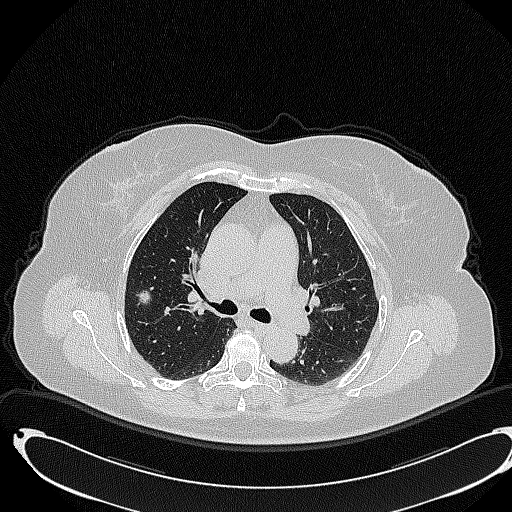nodule: (135, 288, 152, 306)
